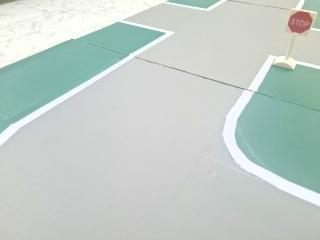stop: (284, 5, 319, 36)
